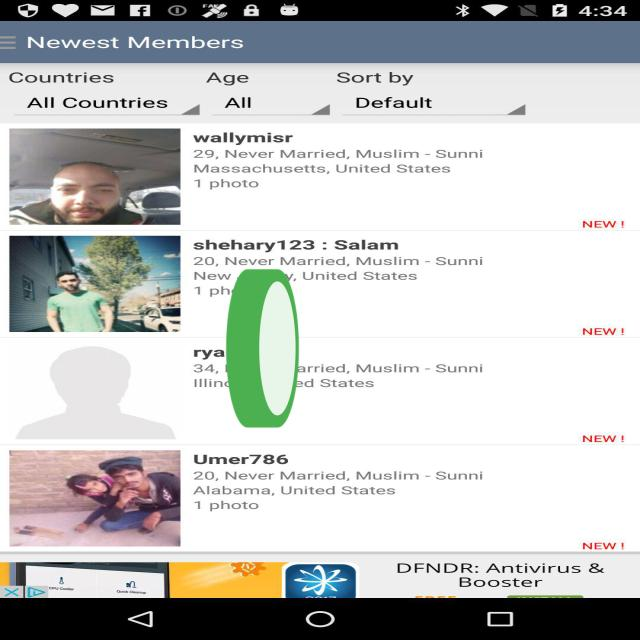social proof: (223, 208, 302, 501)
